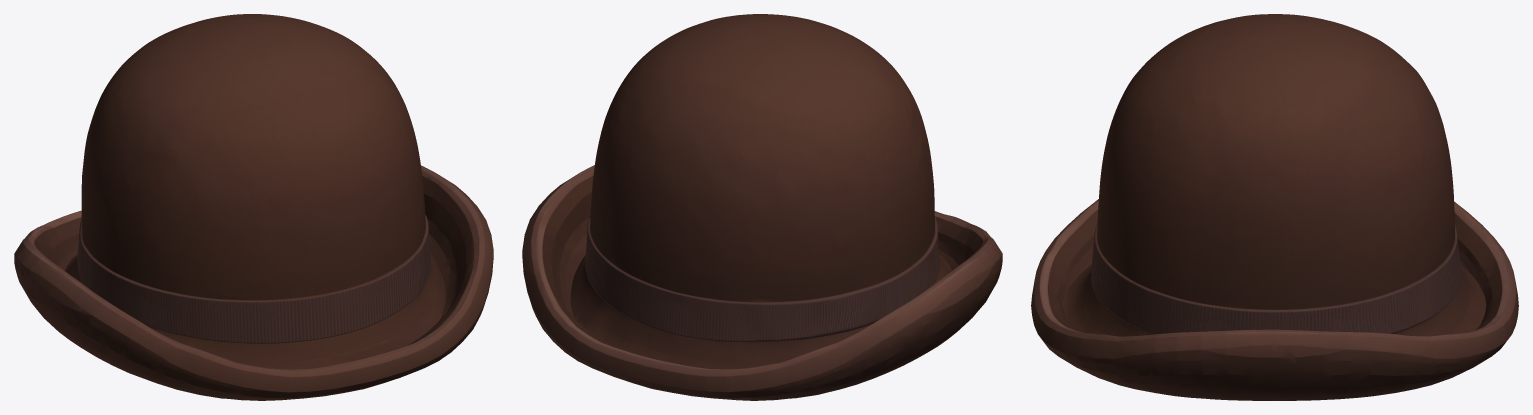
File: hat_bowler.glb
3 renders of one model, left to right at view 1: azimuth 30°, elevation 25°; view 2: azimuth 150°, elevation 25°; view 3: azimuth 270°, elevation 25°, orthographic. The views are drawn at different scales.
Visible parts, largest first — view 1: Mesh_0; view 2: Mesh_0; view 3: Mesh_0.
Boxes of the visible parts, box(x1,y1,x2,y2) form: Mesh_0: box(14, 14, 493, 400); Mesh_0: box(522, 14, 1002, 400); Mesh_0: box(1031, 14, 1518, 400).
Size of the model in its own units: 0.34 by 0.2193 by 0.3357.
1 material, 1 textured.
